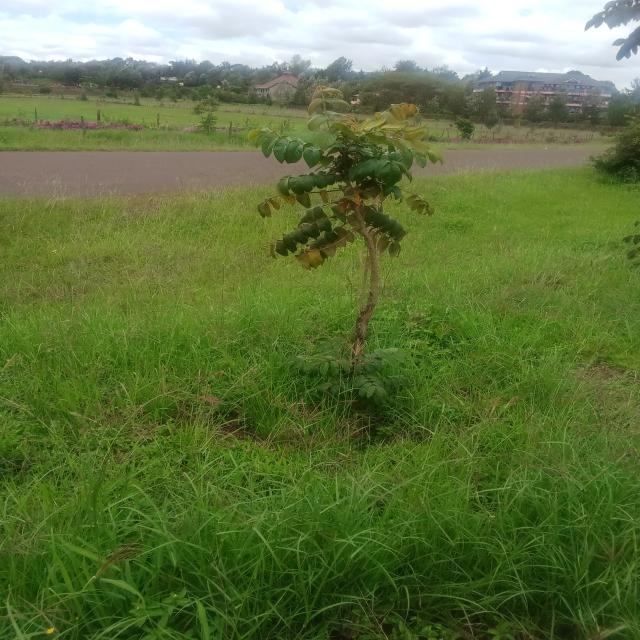Polyscias Kikuyensis: (250, 78, 455, 394)
